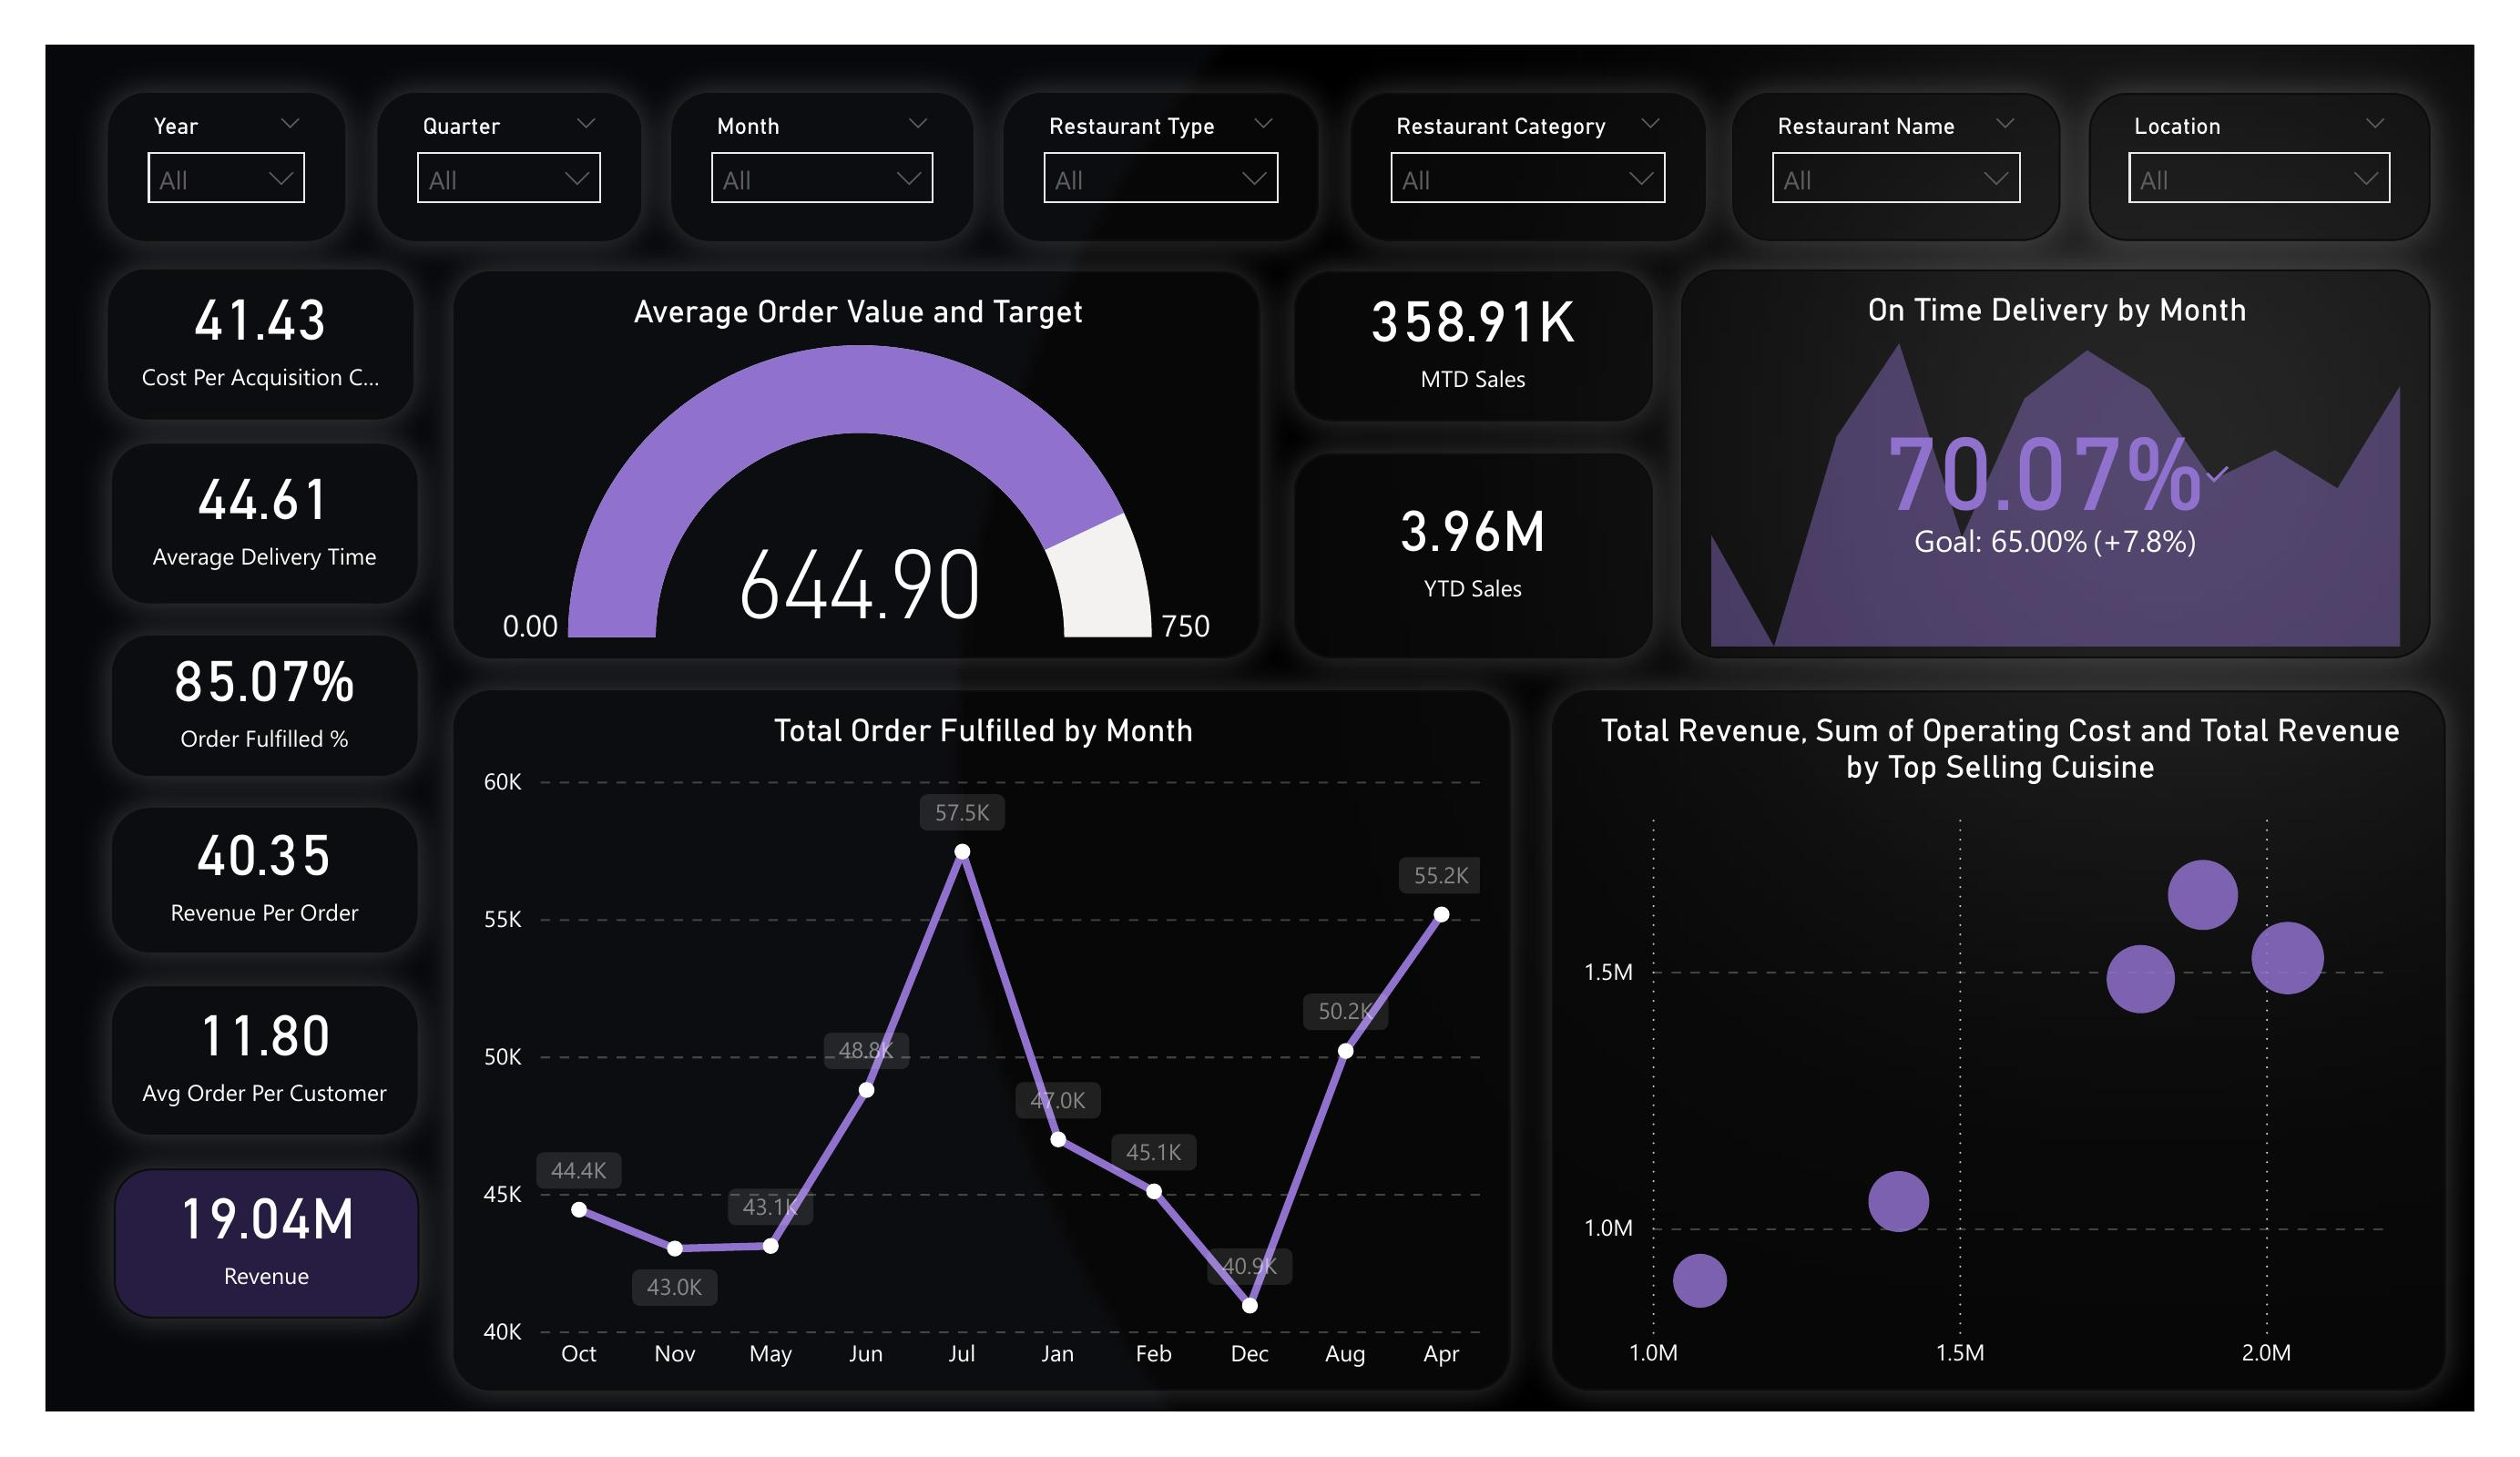

The page's visual inventory and layout, read from the dashboard file:
{"tool":"powerbi","page":{"name":"Summary","canvas":[1280,720],"ordinal":0},"visuals":[{"type":"slicer","fields":{"Values":["D_Date.Year"]},"box":[33,25.4,125.5,77.3],"z":0},{"type":"slicer","fields":{"Values":["D_Date.Month"]},"box":[330.3,25.4,158.4,77.3],"z":1000},{"type":"slicer","fields":{"Values":["D_Date.Quarter"]},"box":[174.7,25.4,139.4,77.3],"z":2000},{"type":"slicer","fields":{"Values":["D_Restaurant.Restaurant Category"]},"box":[687.8,25.4,187.6,77.3],"z":3000},{"type":"slicer","fields":{"Values":["D_Restaurant.Restaurant Type"]},"box":[505.2,25.4,166.1,77.3],"z":4000},{"type":"slicer","fields":{"Values":["D_Restaurant.Restaurant Name"]},"box":[889.3,25.4,172.4,77.3],"z":5000},{"type":"slicer","fields":{"Values":["D_Restaurant.Location"]},"box":[1077.4,25.4,180,77.3],"z":6000},{"type":"card","fields":{"Values":["Sum(F_Main.Actual Revenue)"]},"box":[36,592.4,160.6,78.9],"z":8000},{"type":"card","fields":{"Values":["Measures (2).Average Delivery Time"]},"box":[35.5,210.4,161,83.7],"z":9000},{"type":"card","fields":{"Values":["Measures (2).MTD Sales"]},"box":[657.9,119.2,188.9,78.6],"z":10000},{"type":"card","fields":{"Values":["Measures (2).YTD Sales"]},"box":[657.9,215.5,188.9,107.7],"z":11000},{"type":"lineChart","title":"Total Order Fulfilled by Month","fields":{"Category":["D_Date.Short month"],"Y":["Measures (2).Total Order Fulfilled"]},"box":[215.5,339.7,556.5,368.9],"z":12000},{"type":"gauge","fields":{"Y":["Measures (2).Average Order Value"],"MaxValue":["Measures (2).target"]},"box":[215.5,119.2,424.6,204.1],"z":13000},{"type":"kpi","title":"On Time Delivery by Month","fields":{"Indicator":["Measures (2).On Time Delivery %"],"TrendLine":["D_Date.Month"],"Goal":["Measures (2).Desired on Delivery Time Rate"]},"box":[862,117.9,395.5,205.3],"z":14000},{"type":"card","fields":{"Values":["Measures (2).Order Frequency"]},"box":[35.5,495.6,161,78.6],"z":15000},{"type":"card","fields":{"Values":["Measures (2).Revenue Per Order"]},"box":[35.5,401.8,161,76.1],"z":16000},{"type":"card","fields":{"Values":["Measures (2).Order Fulfilled %"]},"box":[35.5,310.6,161,74.8],"z":17000},{"type":"card","fields":{"Values":["Measures (2).Cost Per Acquisition Cost"]},"box":[33.2,117.6,160.6,78.9],"z":18000},{"type":"scatterChart","fields":{"Category":["D_Restaurant.Top Selling Cuisine"],"X":["Measures (2).Total Revenue"],"Size":["Measures (2).Total Revenue"],"Y":["Sum(F_Main.Operating Cost)"]},"box":[793.5,339.7,471.5,368.9],"z":19000}]}

Visuals, with their boxes in screenshot pixels (x1, y1, x2, y2):
slicer - D_Date.Year: (108,94,346,240)
slicer - D_Date.Month: (672,94,973,240)
slicer - D_Date.Quarter: (377,94,641,240)
slicer - D_Restaurant.Restaurant Category: (1351,94,1707,240)
slicer - D_Restaurant.Restaurant Type: (1005,94,1320,240)
slicer - D_Restaurant.Restaurant Name: (1733,94,2060,240)
slicer - D_Restaurant.Location: (2090,94,2432,240)
card - Sum(F_Main.Actual Revenue): (114,1169,419,1319)
card - Measures (2).Average Delivery Time: (113,444,418,604)
card - Measures (2).MTD Sales: (1294,271,1652,421)
card - Measures (2).YTD Sales: (1294,454,1652,658)
"Total Order Fulfilled by Month" lineChart: (454,690,1511,1390)
gauge - Measures (2).Average Order Value x Measures (2).target: (454,271,1260,659)
"On Time Delivery by Month" kpi: (1681,270,2432,658)
card - Measures (2).Order Frequency: (113,986,418,1135)
card - Measures (2).Revenue Per Order: (113,808,418,953)
card - Measures (2).Order Fulfilled %: (113,635,418,777)
card - Measures (2).Cost Per Acquisition Cost: (108,269,413,418)
scatterChart - D_Restaurant.Top Selling Cuisine x Measures (2).Total Revenue: (1551,690,2446,1390)
